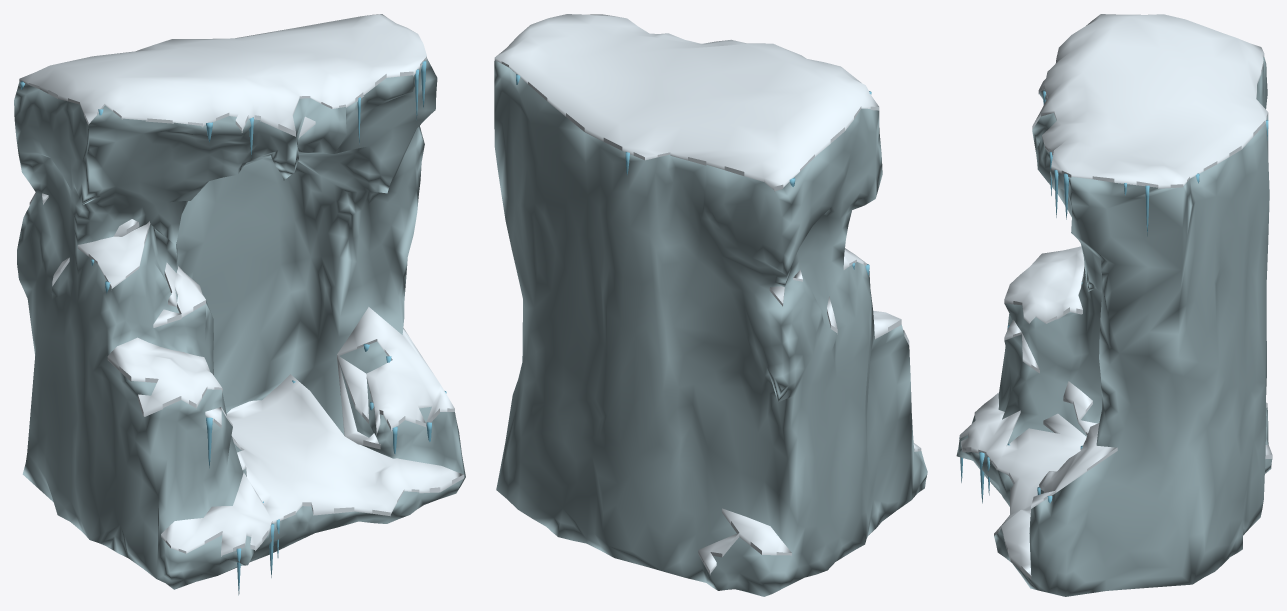
File: FrozenCave_Wall.fbx
3 views of the same model, side by side, from view 1: azimuth 30°, elevation 25°; view 2: azimuth 150°, elevation 25°; view 3: azimuth 270°, elevation 25° (orthographic). The views are drawn at different scales.
Parts seen in each view (by area): view 1: FrozenCave_Wall_LOD0; view 2: FrozenCave_Wall_LOD0; view 3: FrozenCave_Wall_LOD0.
Part boxes in pixels (x1,y1,x2,y2): FrozenCave_Wall_LOD0: [14, 14, 465, 595]; FrozenCave_Wall_LOD0: [494, 14, 927, 596]; FrozenCave_Wall_LOD0: [956, 14, 1272, 596].
Size of what is drawn, in the model's own units: 5.99 by 7.6 by 4.84.
